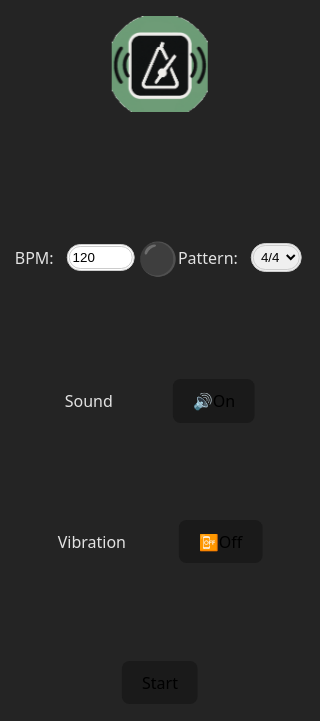
Scenario: App › toggles sound off and remembers it
Click the button named "sound" at [214, 401], box [172,379,255,423]
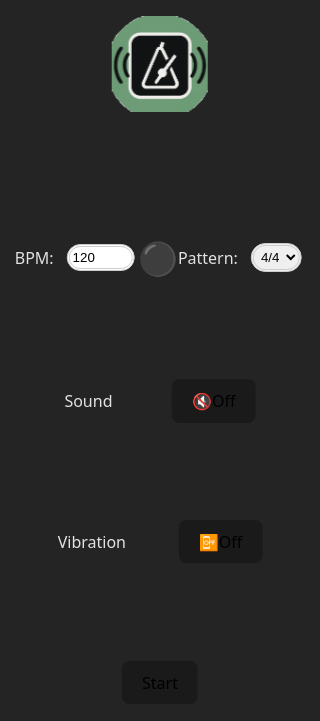
expect the button named "sound" shows "Off": met, box [172,379,256,423]
